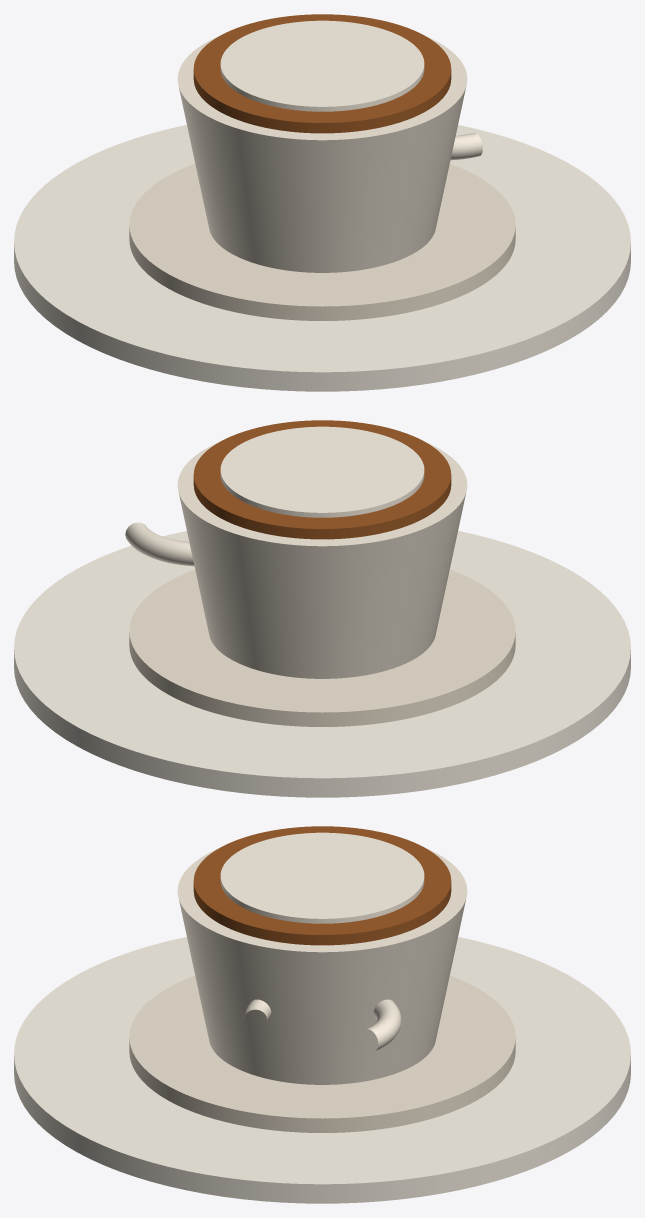
File: coffee.glb
The picture shows the model from 3 angles, top to bottom: view 1: azimuth 30°, elevation 25°; view 2: azimuth 150°, elevation 25°; view 3: azimuth 270°, elevation 25°; orthographic projection.
Size of the model in its own units: 2.3 by 0.8125 by 2.3.
